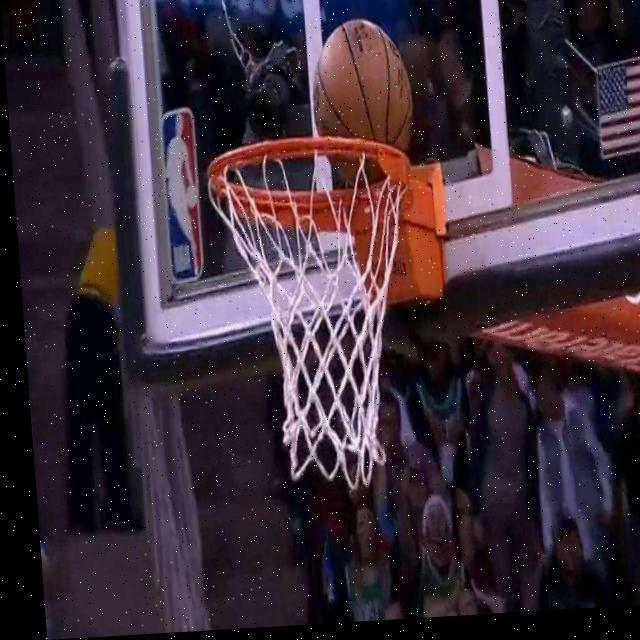basketball: (309, 18, 418, 185)
hoop: (203, 130, 433, 498)
